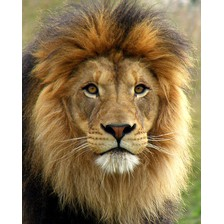lion: (22, 0, 199, 224)
